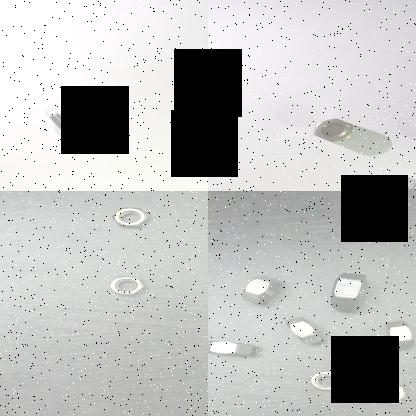Bolts: (40, 104, 90, 145)
NUTS: (324, 270, 374, 314), (99, 275, 150, 307), (282, 315, 324, 347), (304, 366, 350, 394), (208, 335, 259, 360), (309, 116, 356, 143), (241, 275, 281, 306), (105, 206, 153, 230), (381, 319, 416, 351), (367, 382, 410, 404), (403, 180, 416, 191)
